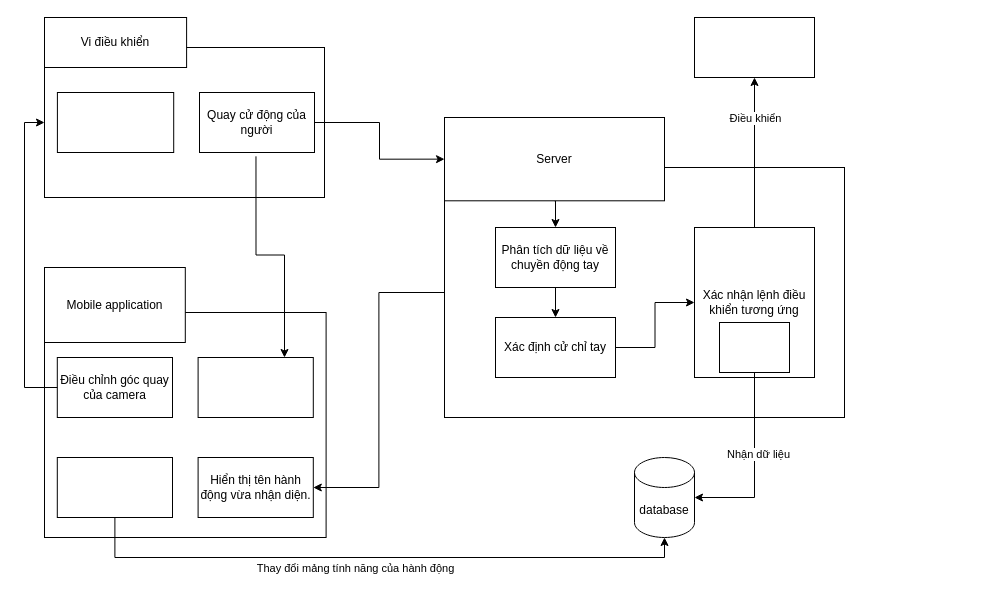
Image size: 1002x592. Some labels were removed from this diagram. The centre of each missing label's shape, as x and y in pixels:
Hiển thị video từ camera Esp32 trên ứng dụng: the point at 255,387
Mảng tính năng các hành động: the point at 754,347
Người dùng có thể thay đổi tính năng của hành động.: the point at 114,487
Slide: the point at 754,47
Thay đổi góc độ camera thông qua động cơ: the point at 115,122
